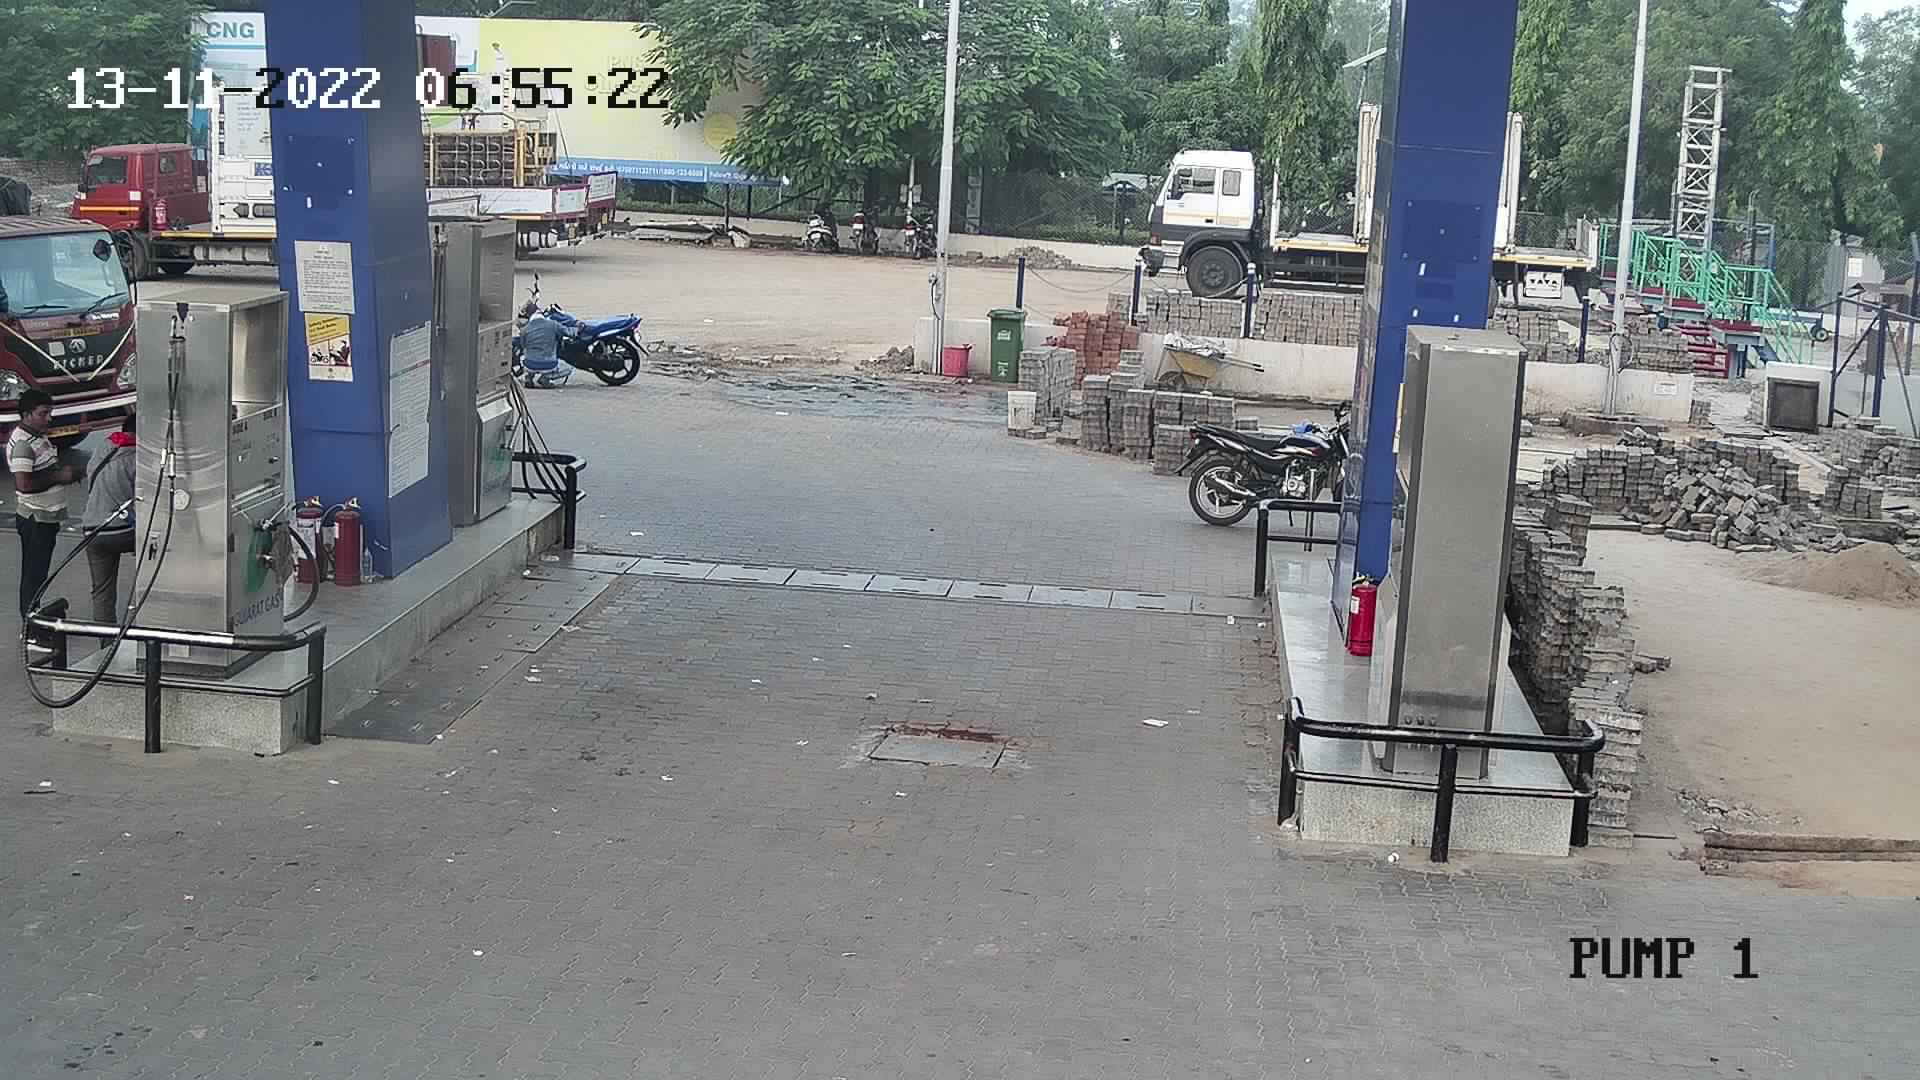Bike: (1170, 385, 1369, 549), (504, 276, 658, 404), (891, 191, 936, 258), (799, 191, 843, 253), (840, 193, 881, 258)
HMV: (1127, 94, 1382, 311), (411, 57, 644, 258), (63, 84, 280, 286), (4, 179, 160, 440)
Others: (74, 404, 142, 644)
